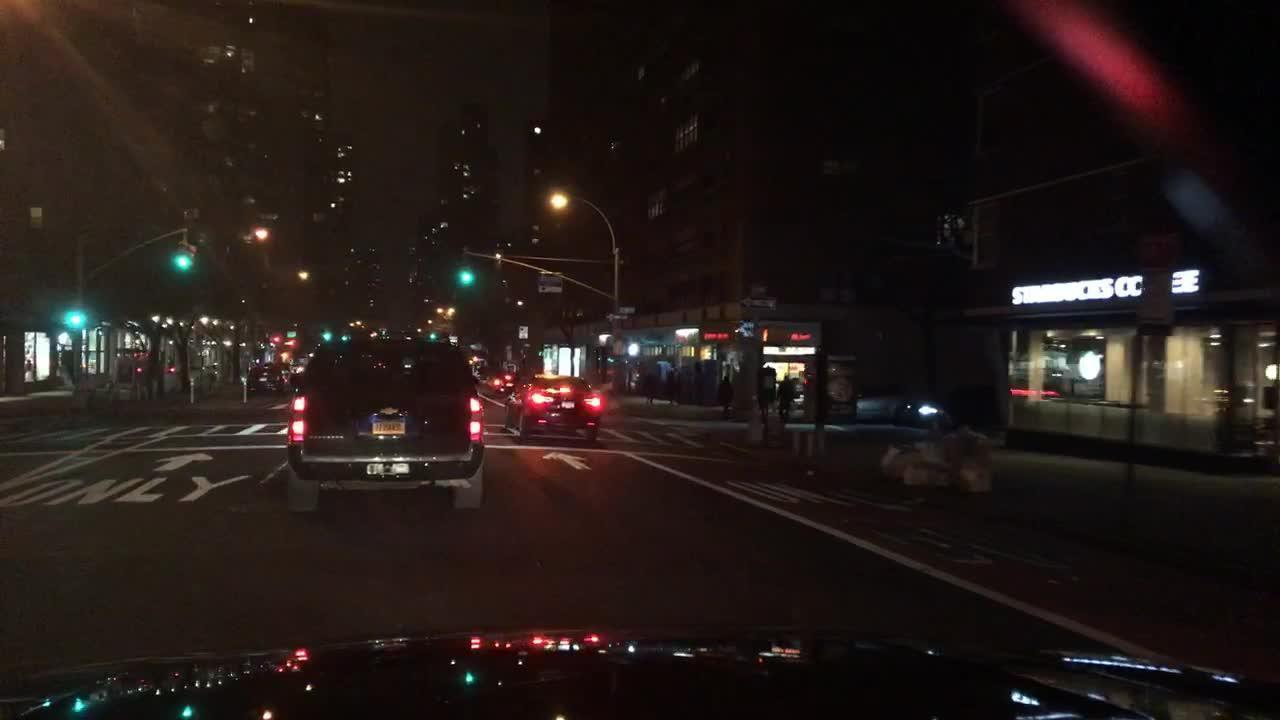chevrolet: (378, 402, 400, 420)
